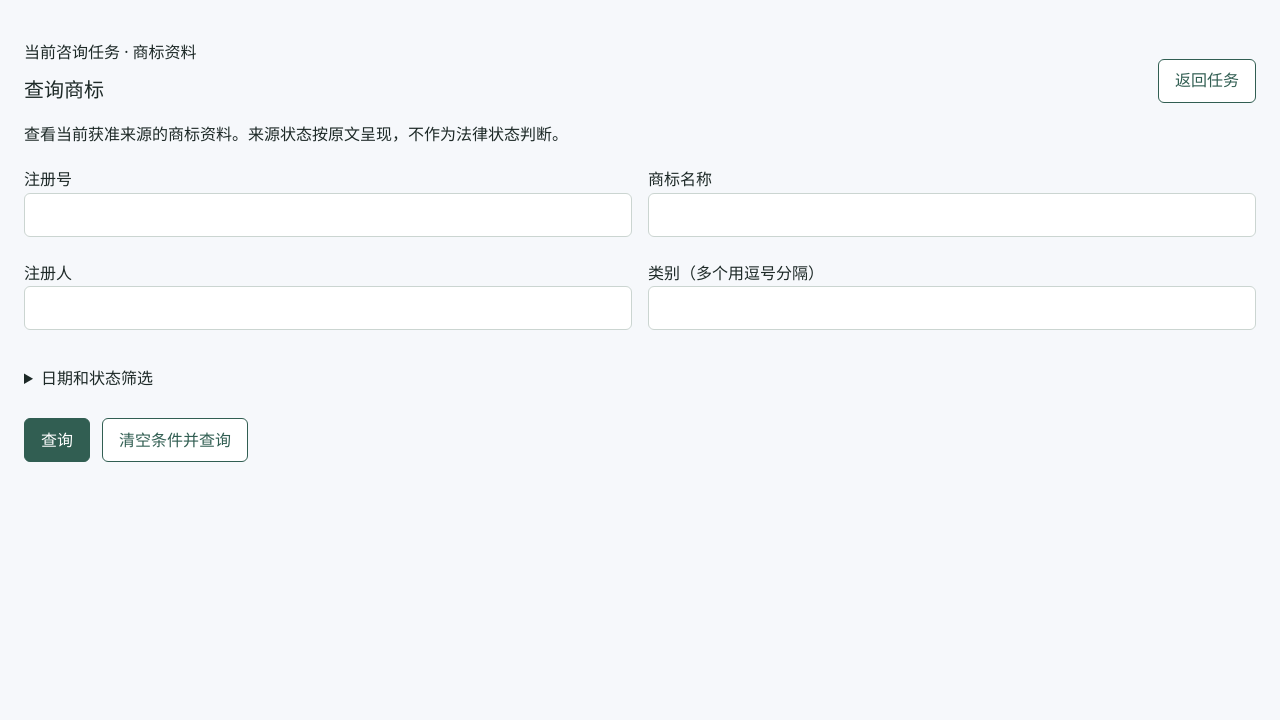
trademark product workspace using transport with isolated HTTP responses › notifies the parent once on expired session and clears the result
This screenshot has width=1280, height=720.
Step 1. Click the button "查询" → (57, 440), box [24,418,90,462]
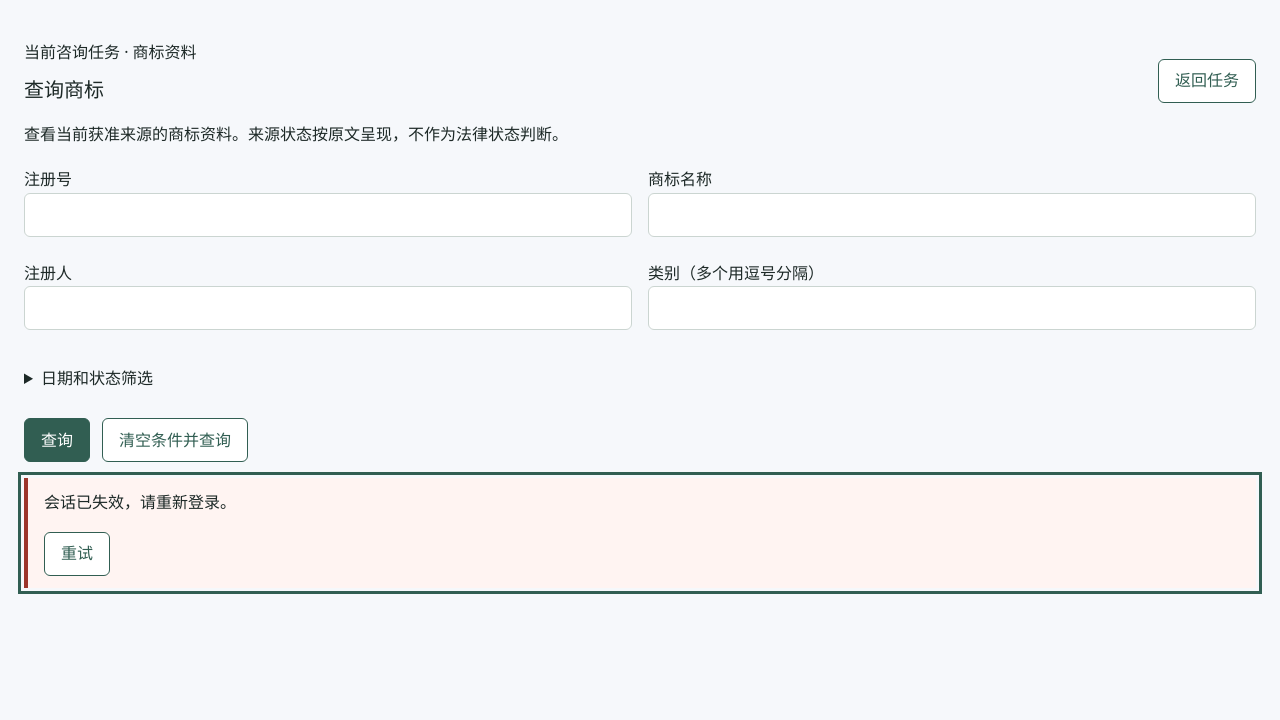
Check: the message "会话已失效，请重新登录。 重试" is shown, box [24,478,1256,588]
